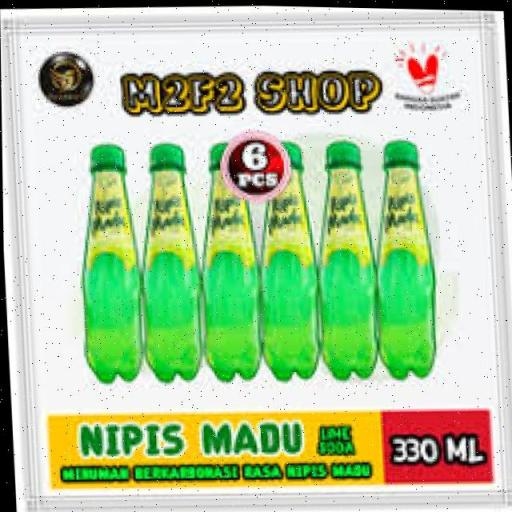plastic: (62, 135, 160, 404), (300, 126, 388, 378), (249, 137, 334, 389), (364, 132, 446, 382), (128, 124, 204, 391), (192, 128, 266, 387)
